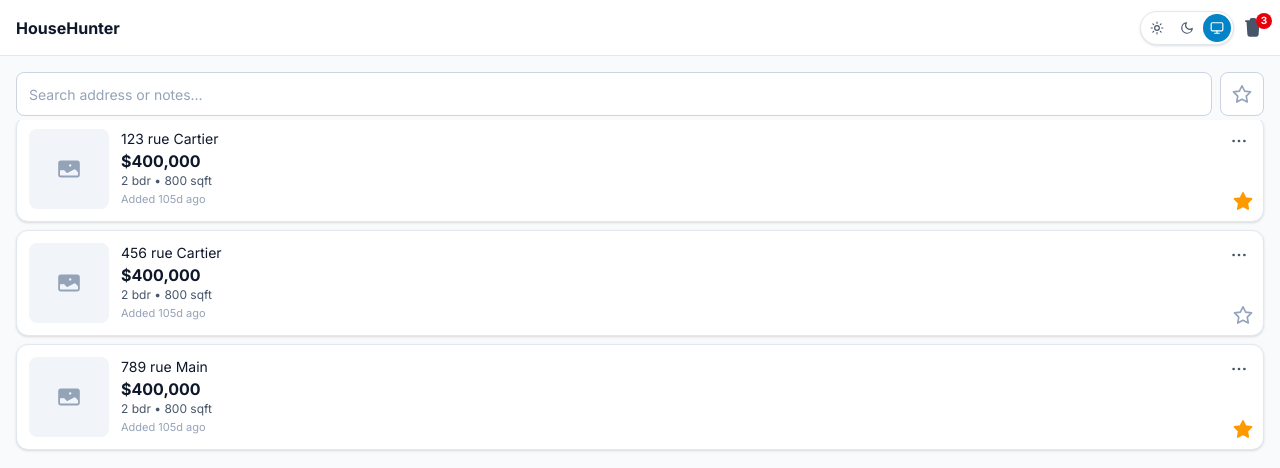
Scenario: /recent page › applies the search query and the favorites toggle together
The image size is (1280, 468).
In the field named "search listings": (614, 94) [16,72,1212,116], type "cartier"
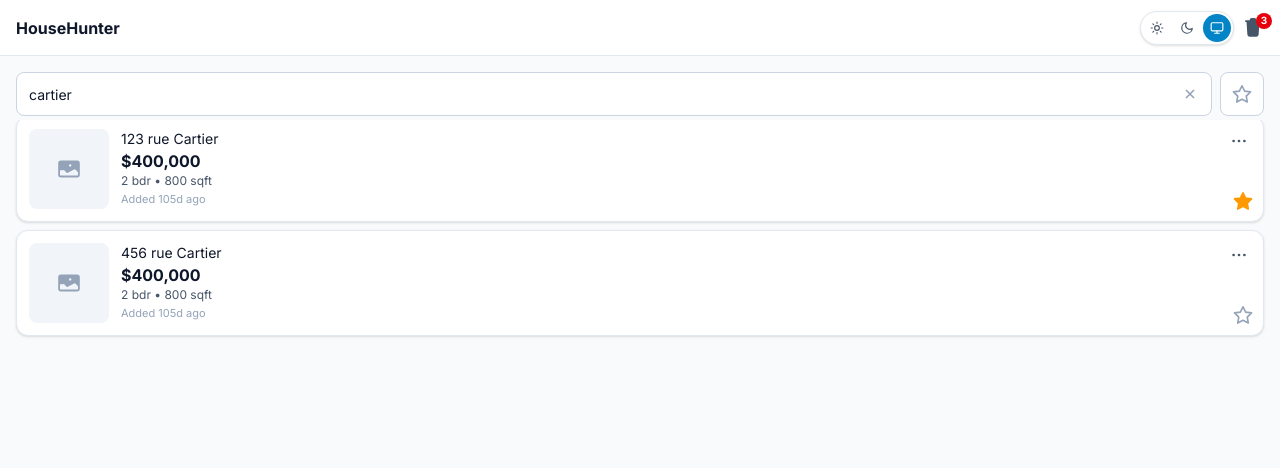
Click the button named "favorites only": (1242, 94) [1220,72,1264,116]
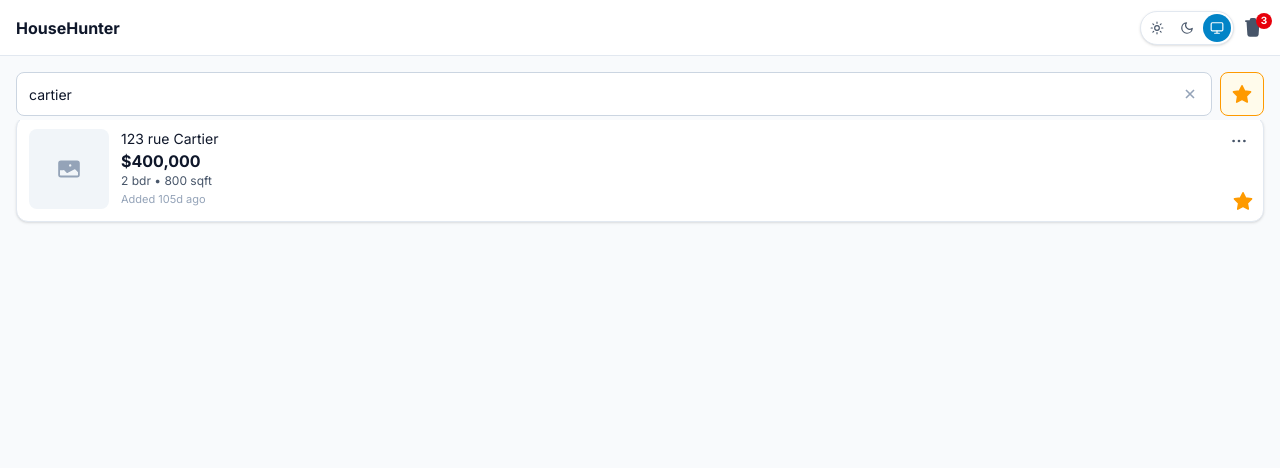
Expected: the text "123 rue Cartier" is shown, [121,130,218,147]
Expected: the number of buttons with test id "listing-card-body" is 1, [17,117,1263,221]
